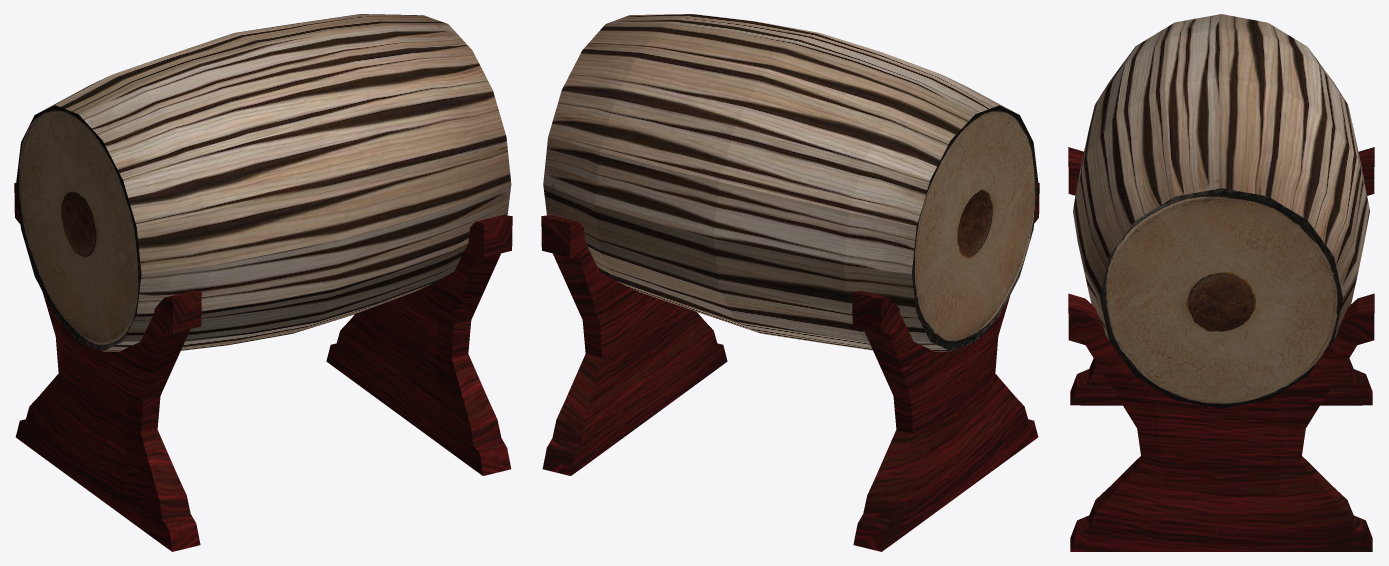
The model's file is Tapon.fbx.
The picture shows the model from 3 angles, left to right: view 1: azimuth 30°, elevation 25°; view 2: azimuth 150°, elevation 25°; view 3: azimuth 270°, elevation 25°; orthographic projection. The views are drawn at different scales.
Parts seen in each view (by area): view 1: _Tapon.001; view 2: _Tapon.001; view 3: _Tapon.001.
Boxes of the visible parts, x1=… form: _Tapon.001: x1=14, y1=14, x2=512, y2=551; _Tapon.001: x1=541, y1=14, x2=1039, y2=551; _Tapon.001: x1=1068, y1=14, x2=1374, y2=551.
Bounding box in the file's own units: 294 × 311 × 218.
1 material, 1 textured.
